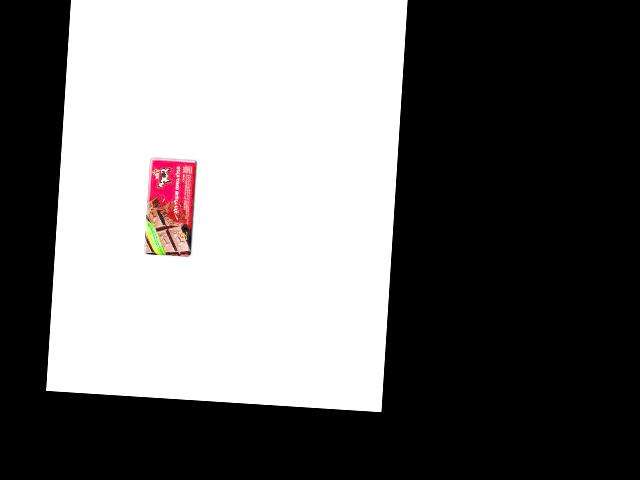chocolate: (142, 154, 201, 257)
